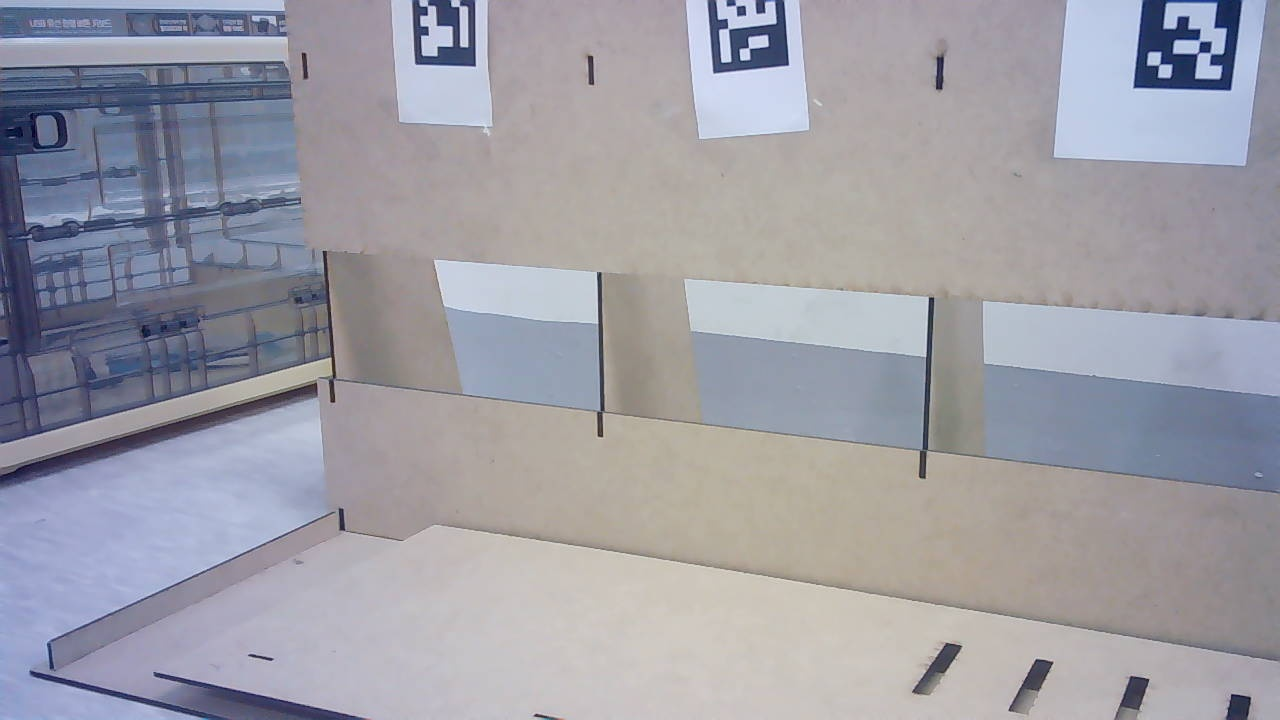aruco: (1050, 1, 1273, 172), (677, 1, 812, 140), (382, 1, 513, 141)
